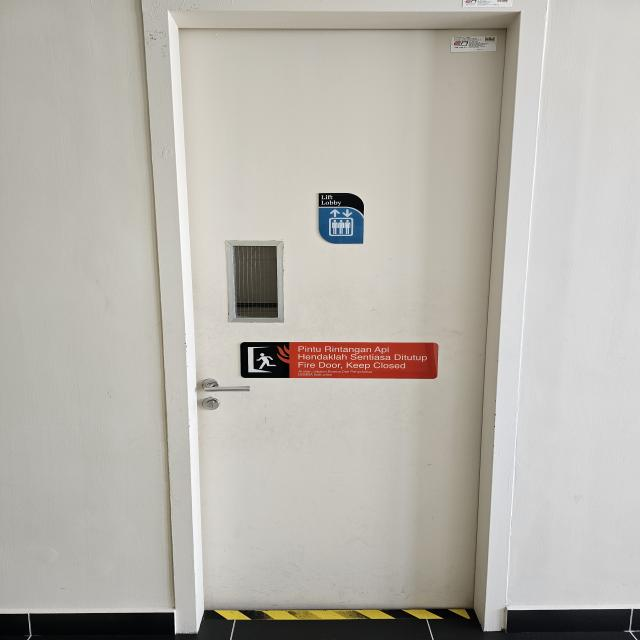door: (127, 0, 556, 640)
